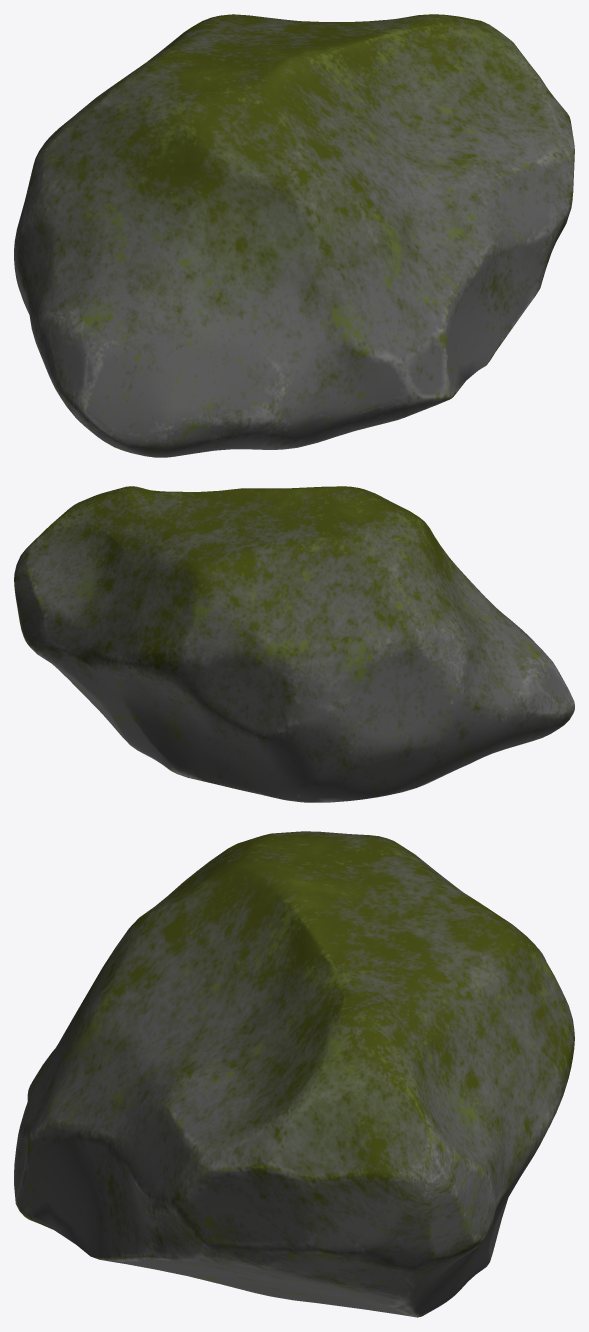
Rendered from stone3.fbx.
3 views of the same model, one above another, from view 1: azimuth 30°, elevation 25°; view 2: azimuth 150°, elevation 25°; view 3: azimuth 270°, elevation 25° (orthographic). The views are drawn at different scales.
Visible parts, largest first — view 1: 333; view 2: 333; view 3: 333.
Part boxes in pixels (x1,y1,x2,y2): 333: (14, 14, 574, 457); 333: (14, 486, 574, 802); 333: (14, 831, 574, 1317).
Bounding box in the file's own units: 89.17 × 46.31 × 66.88.
